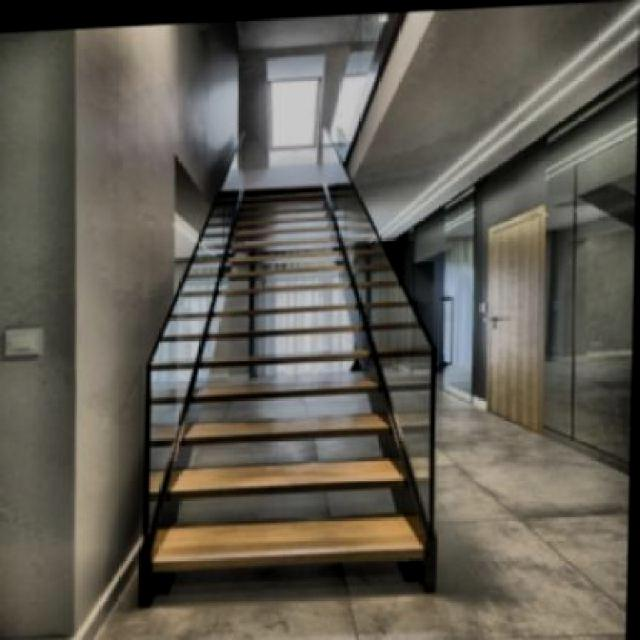stair: (146, 153, 432, 570)
